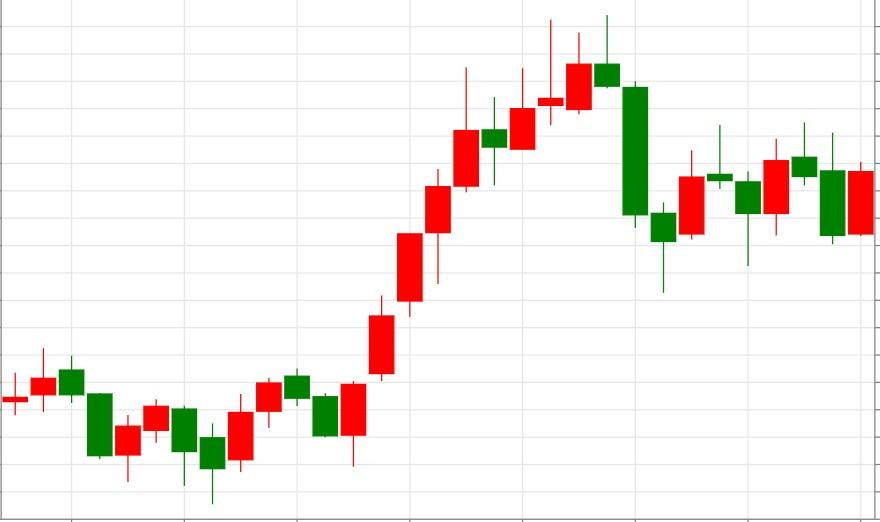three_white_soldiers_rise: (283, 233, 424, 467)
